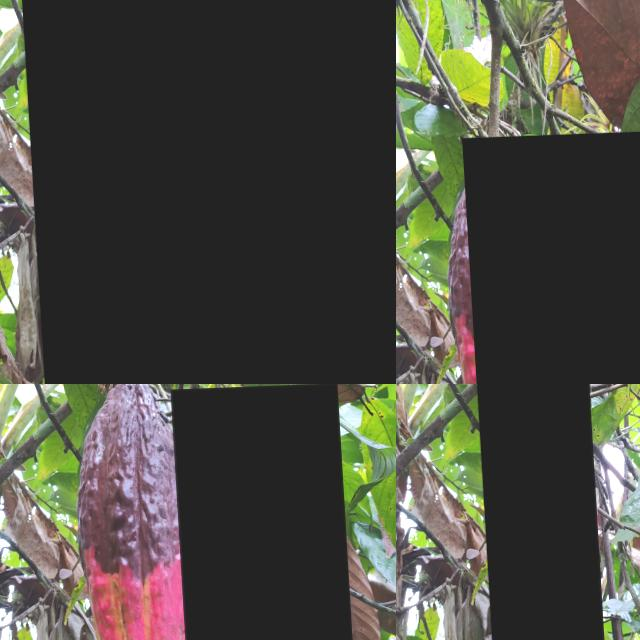Fitoftora: (167, 387, 353, 640), (472, 384, 602, 640)
Monilia: (14, 0, 233, 384)
Sana: (199, 0, 396, 384), (459, 133, 640, 384)
